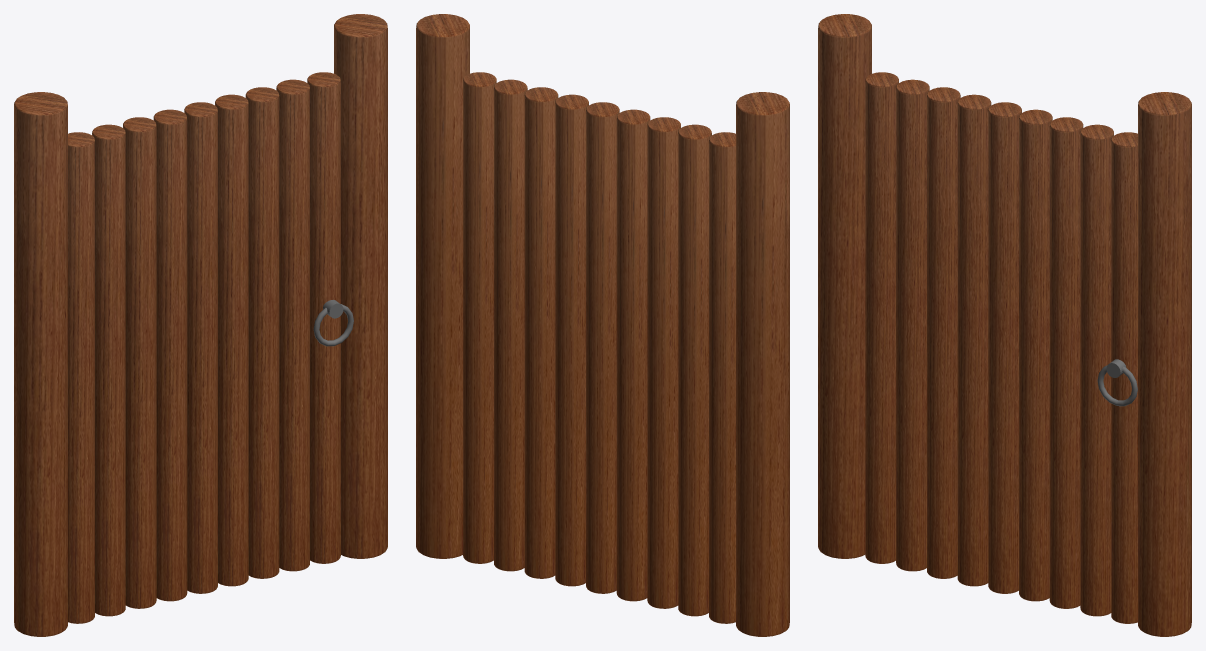
Rendered from Wooden_door.fbx.
3 views of the same model, side by side, from view 1: azimuth 30°, elevation 25°; view 2: azimuth 150°, elevation 25°; view 3: azimuth 330°, elevation 25° (orthographic).
Visible parts, largest first — view 1: pCylinder7, pCylinder26, pCylinder23, pCylinder20, pCylinder19, pCylinder18, pCylinder22, pCylinder21, pCylinder24, pCylinder25, pCylinder17, polySurface2; view 2: pCylinder7, pCylinder26, pCylinder23, pCylinder20, pCylinder19, pCylinder18, pCylinder22, pCylinder25, pCylinder21, pCylinder24, pCylinder17; view 3: pCylinder26, pCylinder7, pCylinder20, pCylinder23, pCylinder24, pCylinder22, pCylinder18, pCylinder21, pCylinder17, pCylinder19, pCylinder25, polySurface2.
Part boxes in pixels (<box>): pCylinder7: <box>14,92,67,636</box>; pCylinder26: <box>334,14,387,558</box>; pCylinder23: <box>245,87,279,578</box>; pCylinder20: <box>153,109,187,601</box>; pCylinder19: <box>123,117,156,608</box>; pCylinder18: <box>92,124,125,616</box>; pCylinder22: <box>215,94,248,586</box>; pCylinder21: <box>184,102,217,593</box>; pCylinder24: <box>276,79,309,571</box>; pCylinder25: <box>307,72,340,563</box>; pCylinder17: <box>68,132,94,623</box>; polySurface2: <box>313,304,353,346</box>; pCylinder7: <box>736,92,789,636</box>; pCylinder26: <box>416,14,469,558</box>; pCylinder23: <box>524,87,558,578</box>; pCylinder20: <box>616,109,650,601</box>; pCylinder19: <box>647,117,680,608</box>; pCylinder18: <box>678,124,711,616</box>; pCylinder22: <box>555,94,588,586</box>; pCylinder25: <box>463,72,496,563</box>; pCylinder21: <box>586,102,619,593</box>; pCylinder24: <box>494,79,527,571</box>; pCylinder17: <box>709,132,735,623</box>; pCylinder26: <box>1138,92,1191,636</box>; pCylinder7: <box>818,14,871,558</box>; pCylinder20: <box>957,94,991,586</box>; pCylinder23: <box>1049,117,1083,608</box>; pCylinder24: <box>1080,124,1113,616</box>; pCylinder22: <box>1019,109,1052,601</box>; pCylinder18: <box>896,79,929,571</box>; pCylinder21: <box>988,102,1021,593</box>; pCylinder17: <box>865,72,898,563</box>; pCylinder19: <box>927,87,960,578</box>; pCylinder25: <box>1111,132,1137,623</box>; polySurface2: <box>1097,365,1137,406</box>.
Bounding box in the file's own units: 12.5 × 17.05 × 1.6.
2 materials, 1 textured.
